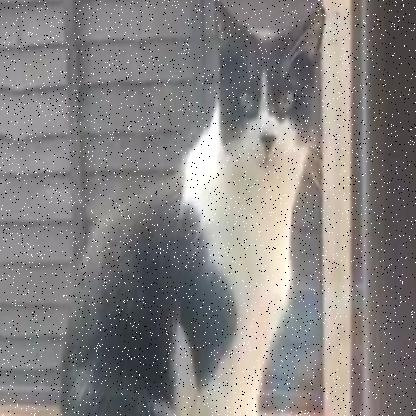cat: (48, 0, 329, 415)
